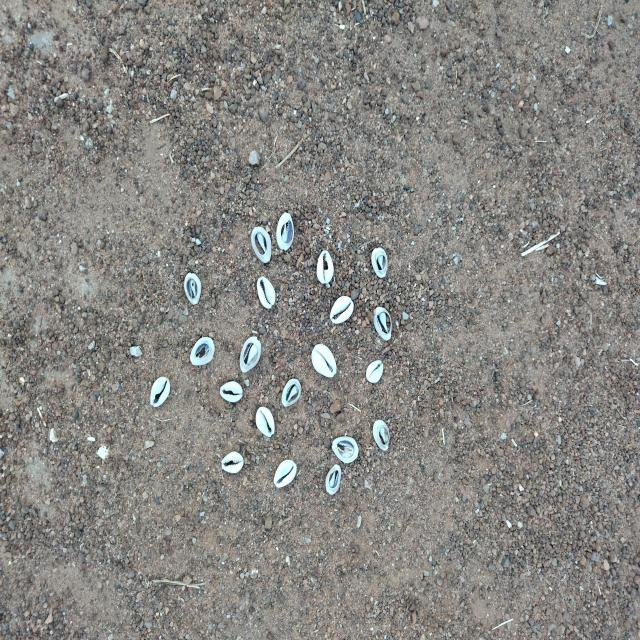facedown: (238, 332, 263, 374), (250, 225, 274, 266), (275, 208, 295, 256), (188, 335, 216, 368), (330, 434, 360, 464), (182, 270, 203, 308), (373, 304, 394, 342), (280, 376, 304, 409), (372, 418, 392, 453), (324, 463, 342, 498), (371, 248, 389, 280)
faceup: (309, 340, 337, 381), (328, 293, 356, 326), (149, 372, 172, 412), (272, 458, 298, 491), (315, 246, 335, 287), (255, 274, 277, 310), (220, 447, 246, 477), (254, 404, 276, 438), (219, 379, 245, 405), (364, 358, 384, 386)
